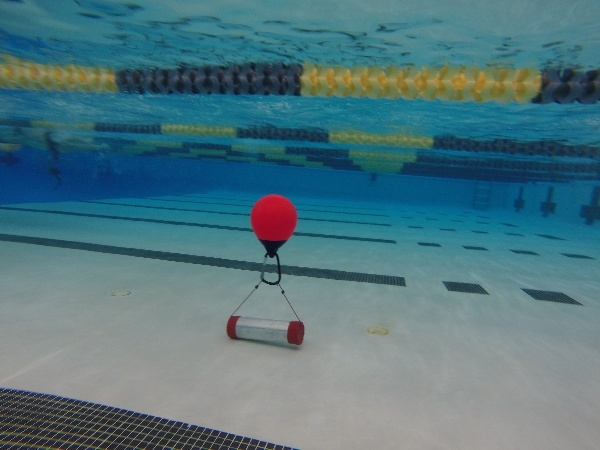buoy_red: (245, 190, 301, 259)
